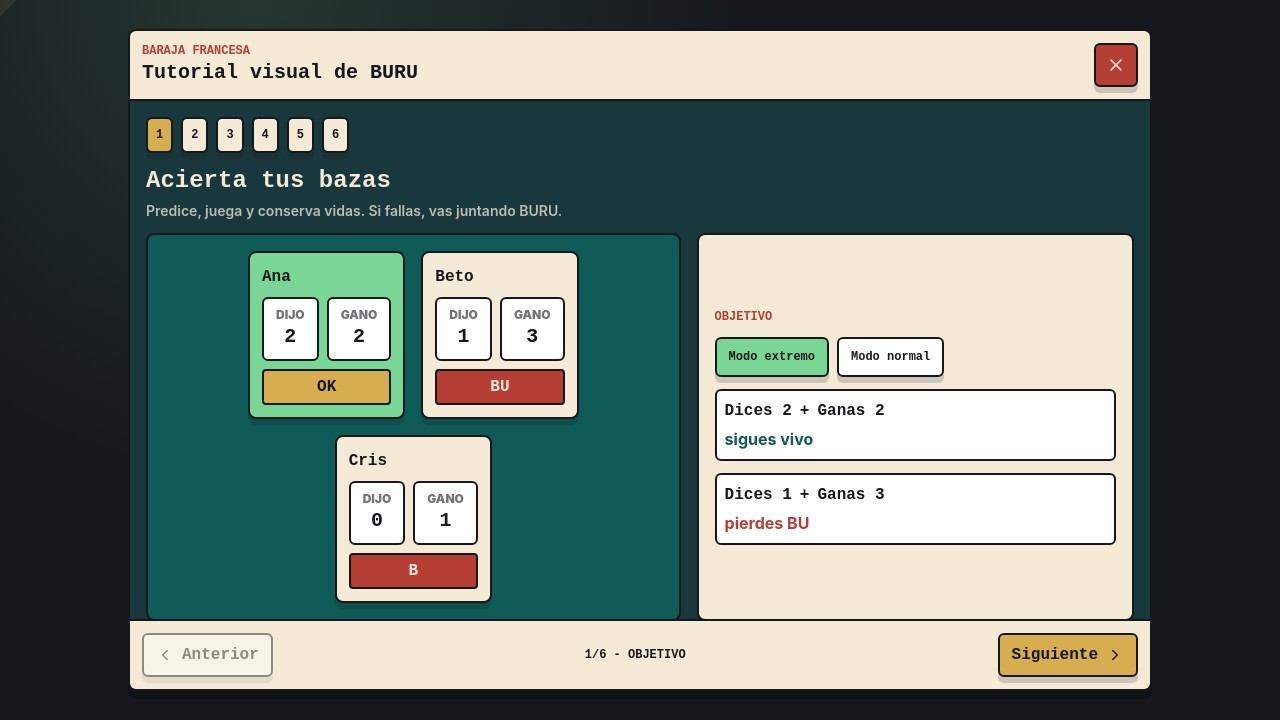
Test: GameRulesTutorial › calculates tutorial player badges from the selected life mode
Expected: the button "Modo extremo" is shown, [715, 337, 829, 377]
Expected: the text with test id "tutorial-badge-Beto" reads "BU", [490, 378, 510, 396]
What coordinates should you click on to do the following:
click the button "Modo normal"
I would click on:
 (891, 357)
Its box is [837, 337, 944, 377].
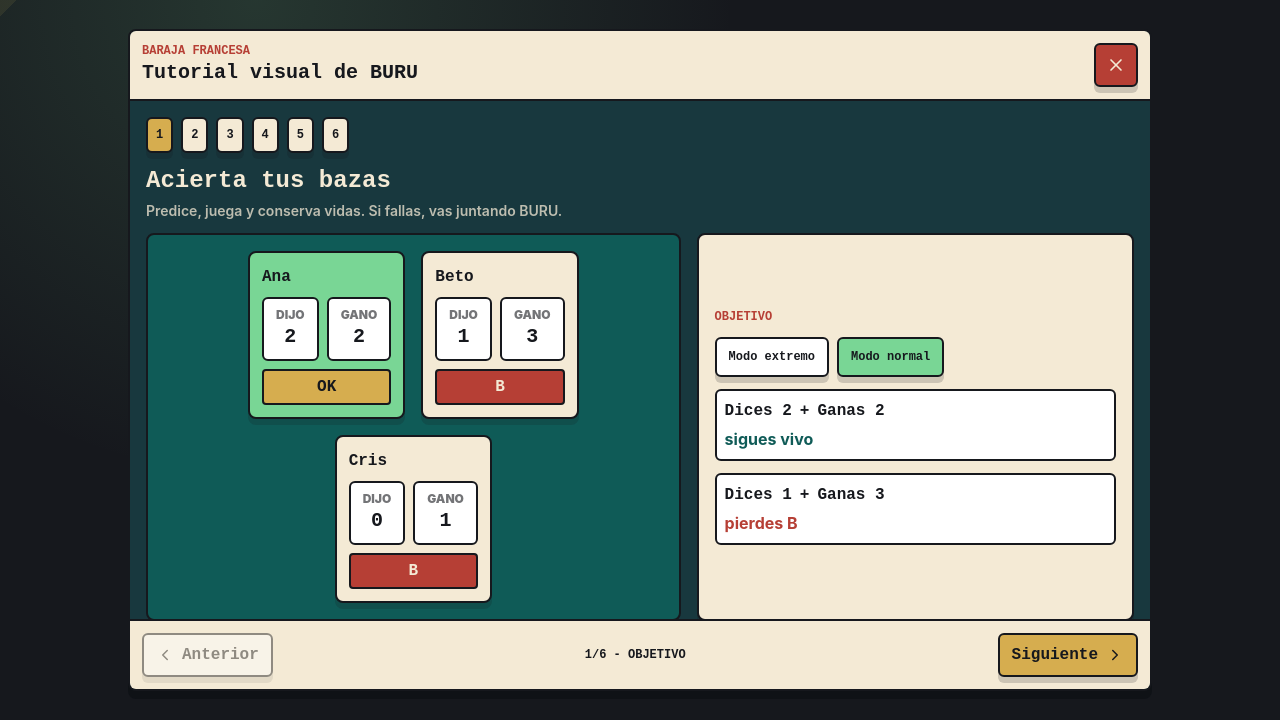
Expected: the text with test id "tutorial-badge-Cris" reads "B", [408, 562, 418, 580]
Result: the text with test id "tutorial-badge-Beto" reads "B" at [495, 378, 505, 396]
